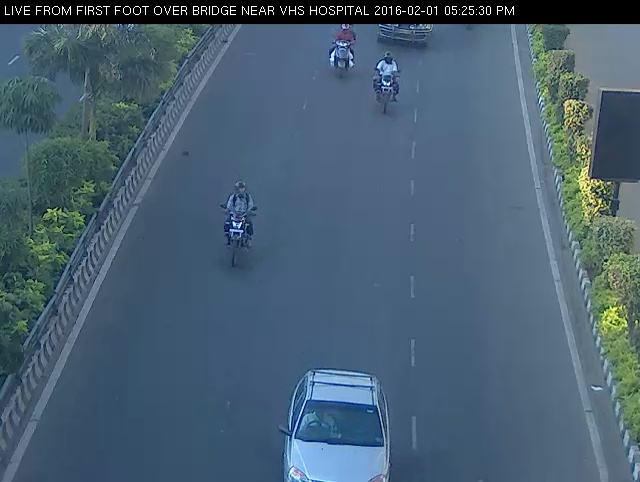Car: (274, 365, 404, 482), (374, 18, 438, 52)
Person: (210, 172, 263, 276), (365, 46, 410, 118), (325, 21, 360, 81)
